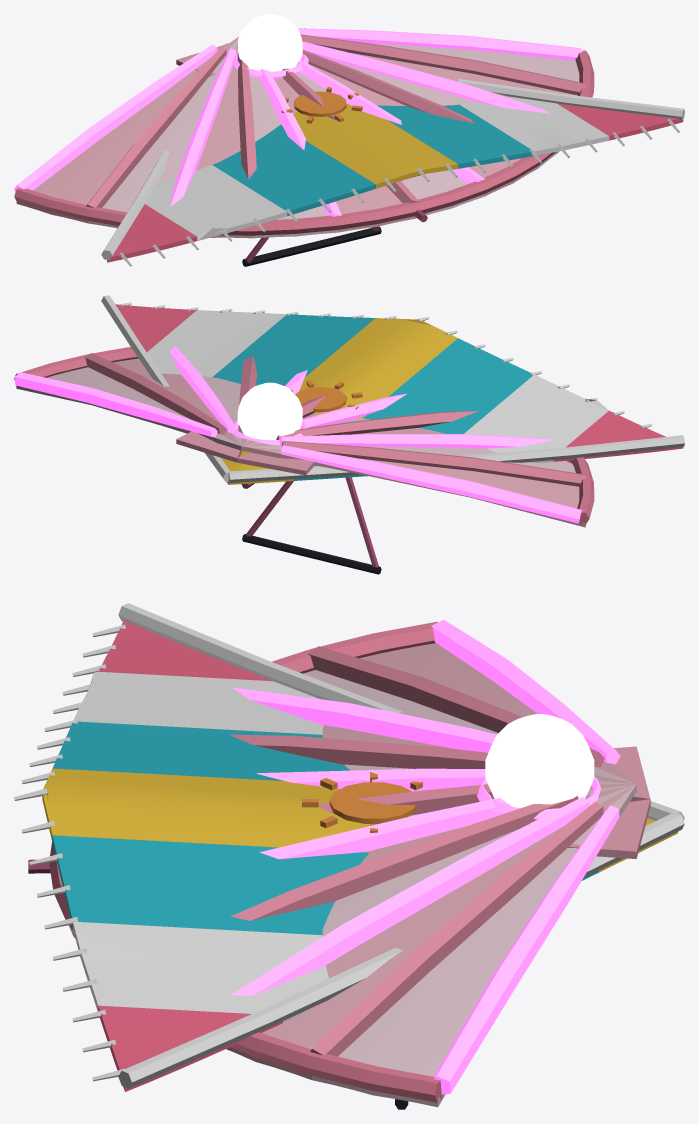
The model's file is 2026-11-26_deltaplane.glb.
3 views of the same model, one above another, from view 1: azimuth 30°, elevation 25°; view 2: azimuth 150°, elevation 25°; view 3: azimuth 270°, elevation 25° (orthographic). The views are drawn at different scales.
Visible parts, largest first — view 1: deltaplane_coquillage_nacre, deltaplane_serviette_de_plage; view 2: deltaplane_serviette_de_plage, deltaplane_coquillage_nacre; view 3: deltaplane_coquillage_nacre, deltaplane_serviette_de_plage.
Boxes of the visible parts, x1=… form: deltaplane_coquillage_nacre: x1=14, y1=14, x2=594, y2=266; deltaplane_serviette_de_plage: x1=101, y1=42, x2=684, y2=266; deltaplane_serviette_de_plage: x1=101, y1=295, x2=684, y2=484; deltaplane_coquillage_nacre: x1=14, y1=346, x2=594, y2=574; deltaplane_coquillage_nacre: x1=28, y1=619, x2=650, y2=1109; deltaplane_serviette_de_plage: x1=14, y1=603, x2=684, y2=1091.
Bounding box in the file's own units: 4.05 × 1.34 × 2.43.
